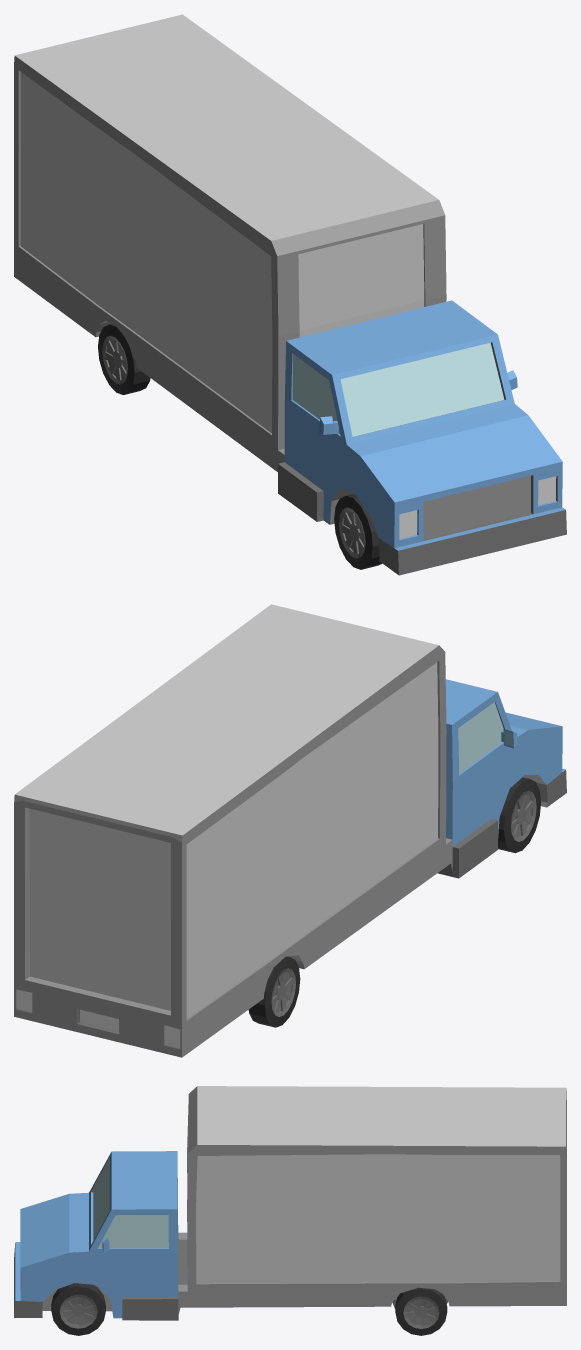
Rendered from truck.fbx.
3 renders of one model, top to bottom at view 1: azimuth 30°, elevation 25°; view 2: azimuth 150°, elevation 25°; view 3: azimuth 270°, elevation 25°, orthographic. The views are drawn at different scales.
Visible parts, largest first — view 1: TRUCK; view 2: TRUCK, VRATA; view 3: TRUCK.
Boxes of the visible parts, x1=… form: TRUCK: x1=14, y1=14, x2=566, y2=575; TRUCK: x1=14, y1=604, x2=566, y2=1057; VRATA: x1=29, y1=808, x2=170, y2=1010; TRUCK: x1=14, y1=1086, x2=566, y2=1335.
Size of the model in its own units: 131 by 171 by 448.
